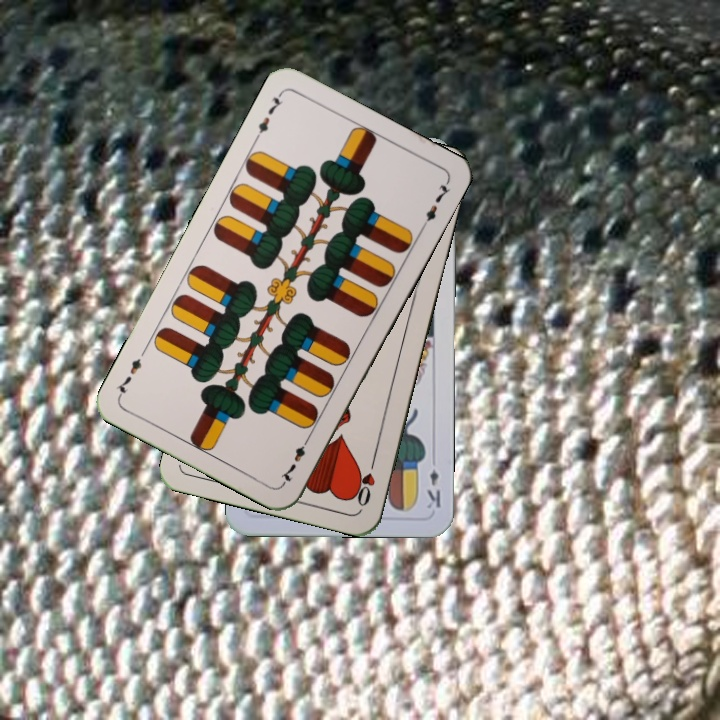E7: (276, 432, 313, 487), (251, 88, 286, 143)
EK: (423, 465, 443, 511)
HO: (350, 452, 379, 509)
